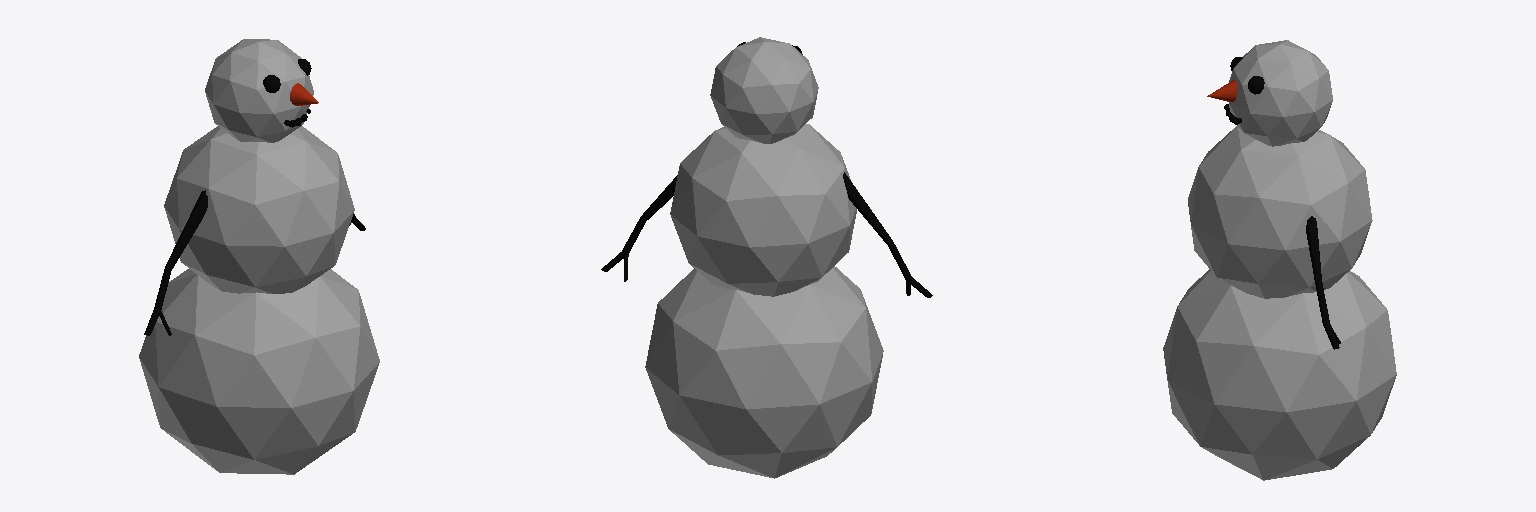
File: zSnowman_Icosphere.001.obj
3 renders of one model, left to right at view 1: azimuth 30°, elevation 25°; view 2: azimuth 150°, elevation 25°; view 3: azimuth 270°, elevation 25°, orthographic.
Visible parts, largest first — view 1: zSnowman_Icosphere.001; view 2: zSnowman_Icosphere.001; view 3: zSnowman_Icosphere.001.
Part boxes in pixels (left/top/right/bottom): zSnowman_Icosphere.001: left=139, top=39, right=379, bottom=474; zSnowman_Icosphere.001: left=601, top=37, right=932, bottom=478; zSnowman_Icosphere.001: left=1163, top=40, right=1396, bottom=480.
Bounding box in the file's own units: 2.32 × 3.43 × 1.7.